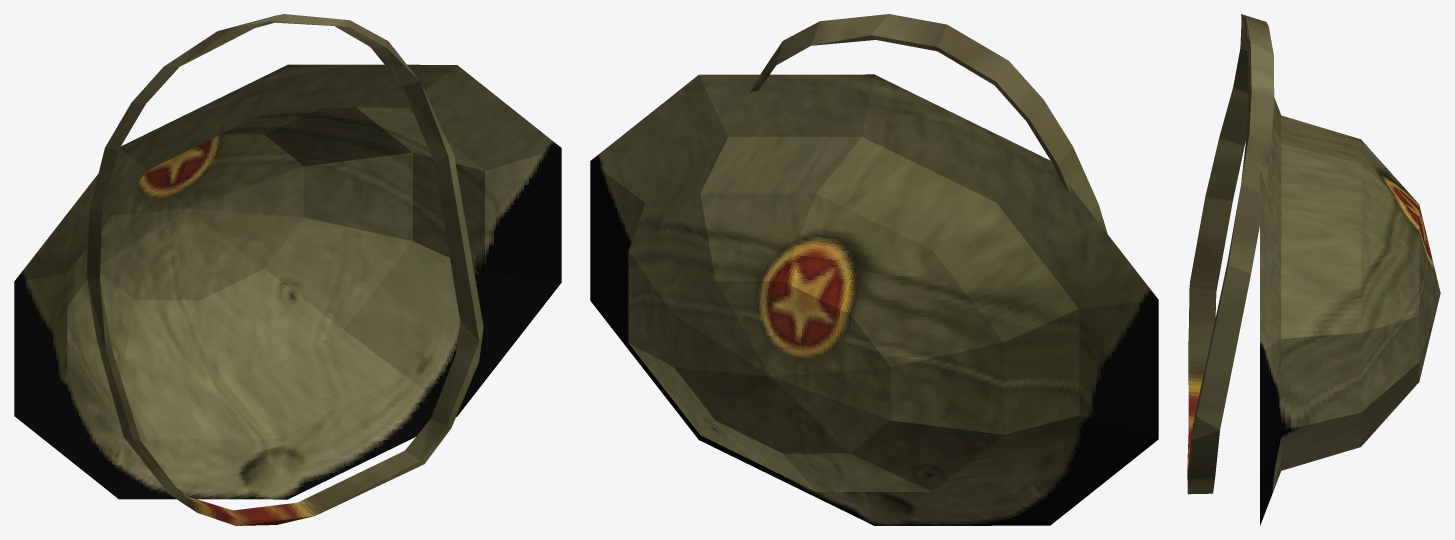
File: pith_plain.glb
3 views of the same model, side by side, from view 1: azimuth 30°, elevation 25°; view 2: azimuth 150°, elevation 25°; view 3: azimuth 270°, elevation 25° (orthographic). The views are drawn at different scales.
Parts seen in each view (by area): view 1: pith_plain, pith_plain_band; view 2: pith_plain, pith_plain_band; view 3: pith_plain, pith_plain_band.
Part boxes in pixels (x1=…): pith_plain: x1=14, y1=64, x2=561, y2=499; pith_plain_band: x1=86, y1=14, x2=483, y2=525; pith_plain: x1=590, y1=74, x2=1158, y2=525; pith_plain_band: x1=749, y1=14, x2=1107, y2=233; pith_plain: x1=1260, y1=98, x2=1440, y2=525; pith_plain_band: x1=1187, y1=14, x2=1274, y2=494.
Size of the model in its own units: 0.3095 by 0.266 by 0.1377.
Materials: 2 (2 with a texture image).
